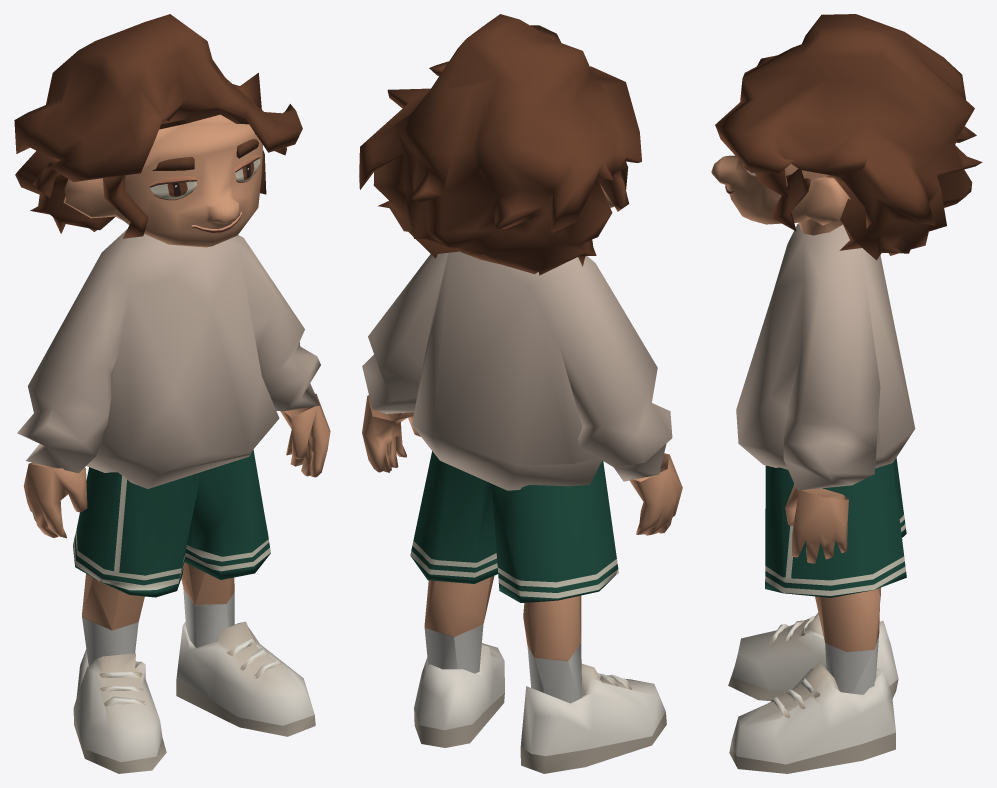
File: host_q_tripo_p20_r2s1_barehead.glb
The picture shows the model from 3 angles, left to right: view 1: azimuth 30°, elevation 25°; view 2: azimuth 150°, elevation 25°; view 3: azimuth 270°, elevation 25°; orthographic projection. The views are drawn at different scales.
Visible parts, largest first — view 1: HostBody; view 2: HostBody; view 3: HostBody.
Boxes of the visible parts, x1,y1,x2,y2 form: HostBody: (14, 14, 330, 773); HostBody: (359, 14, 682, 773); HostBody: (711, 14, 982, 773).
Size of the model in its own units: 0.5683 by 1.25 by 0.4444.
